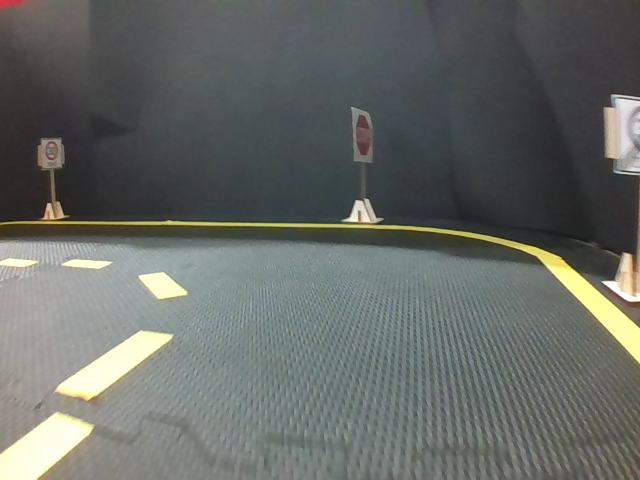30: (41, 138, 61, 170)
no30: (615, 95, 640, 174)
stop: (354, 108, 372, 164)
